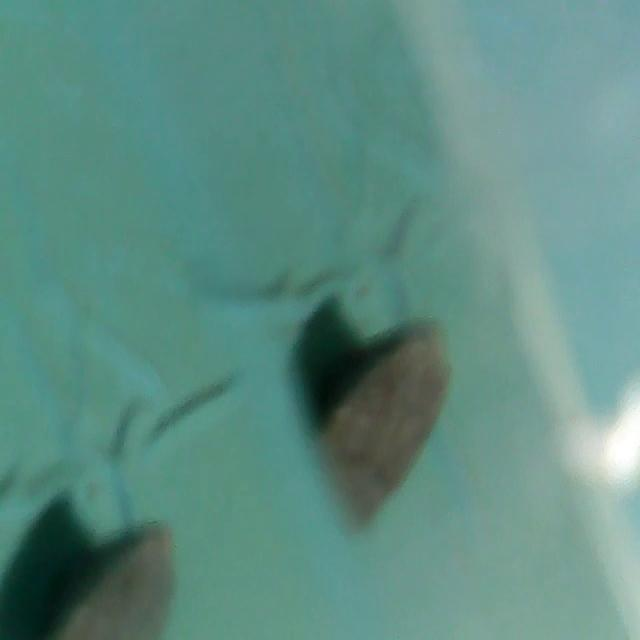rock: (301, 313, 464, 539), (40, 526, 197, 640)
